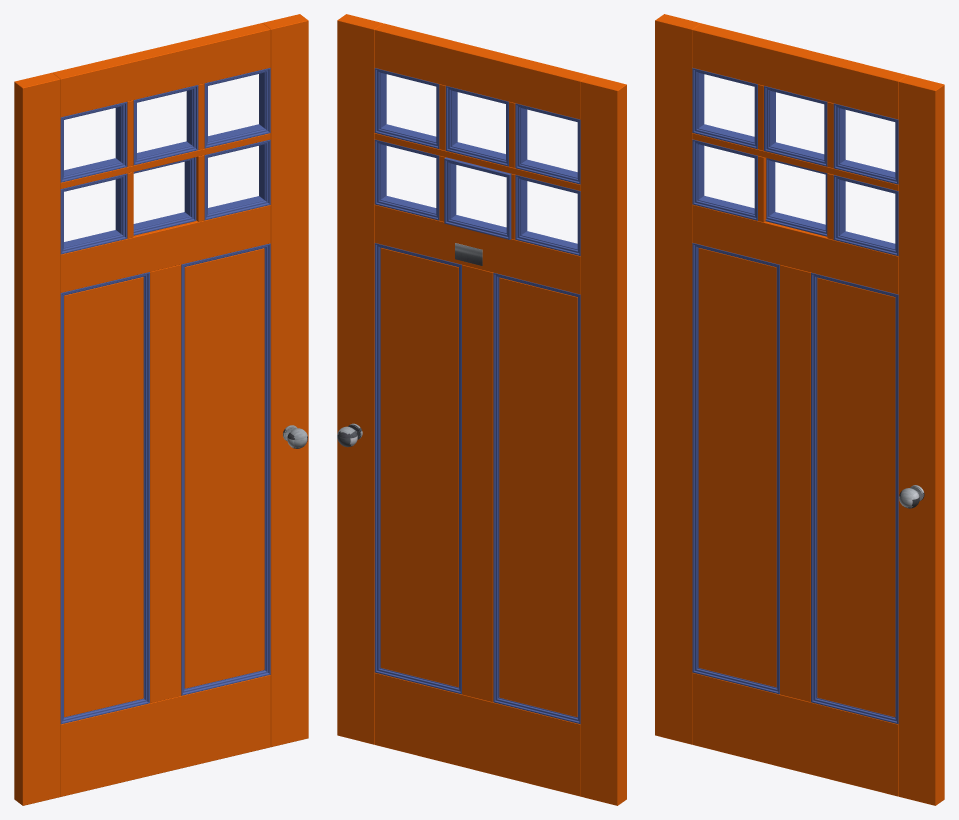
File: Puerta.obj
3 renders of one model, left to right at view 1: azimuth 30°, elevation 25°; view 2: azimuth 150°, elevation 25°; view 3: azimuth 330°, elevation 25°, orthographic.
Visible parts, largest first — view 1: polySurface671; view 2: polySurface671; view 3: polySurface671.
Part boxes in pixels (box(x1,y1,x2,y2)): polySurface671: box(14, 14, 308, 805); polySurface671: box(337, 14, 626, 805); polySurface671: box(655, 14, 944, 805).
Size of the model in its own units: 2.27 by 5.48 by 0.4606.
Materials: 3 (3 with a texture image).
